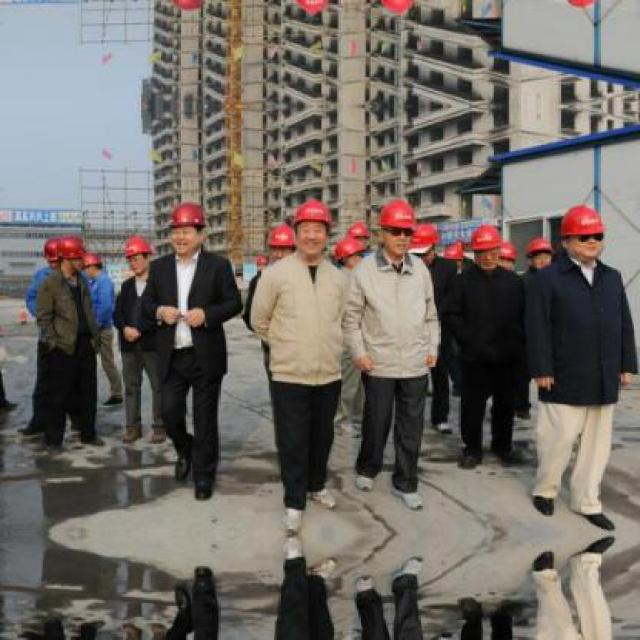helmet: (558, 201, 608, 236), (377, 196, 417, 230), (405, 220, 440, 250), (292, 200, 332, 225), (471, 223, 505, 250), (172, 204, 206, 229), (333, 234, 365, 259), (55, 235, 86, 259), (520, 236, 556, 255), (266, 225, 294, 249), (123, 234, 152, 257)
